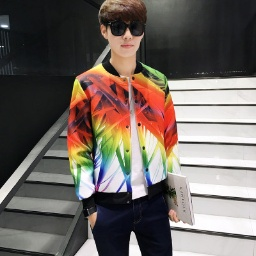face: (92, 1, 154, 61)
